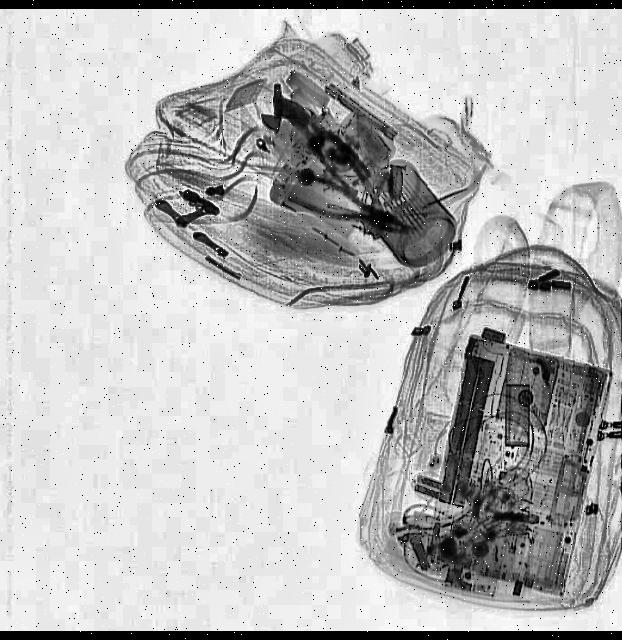Pliers: (286, 162, 416, 250)
